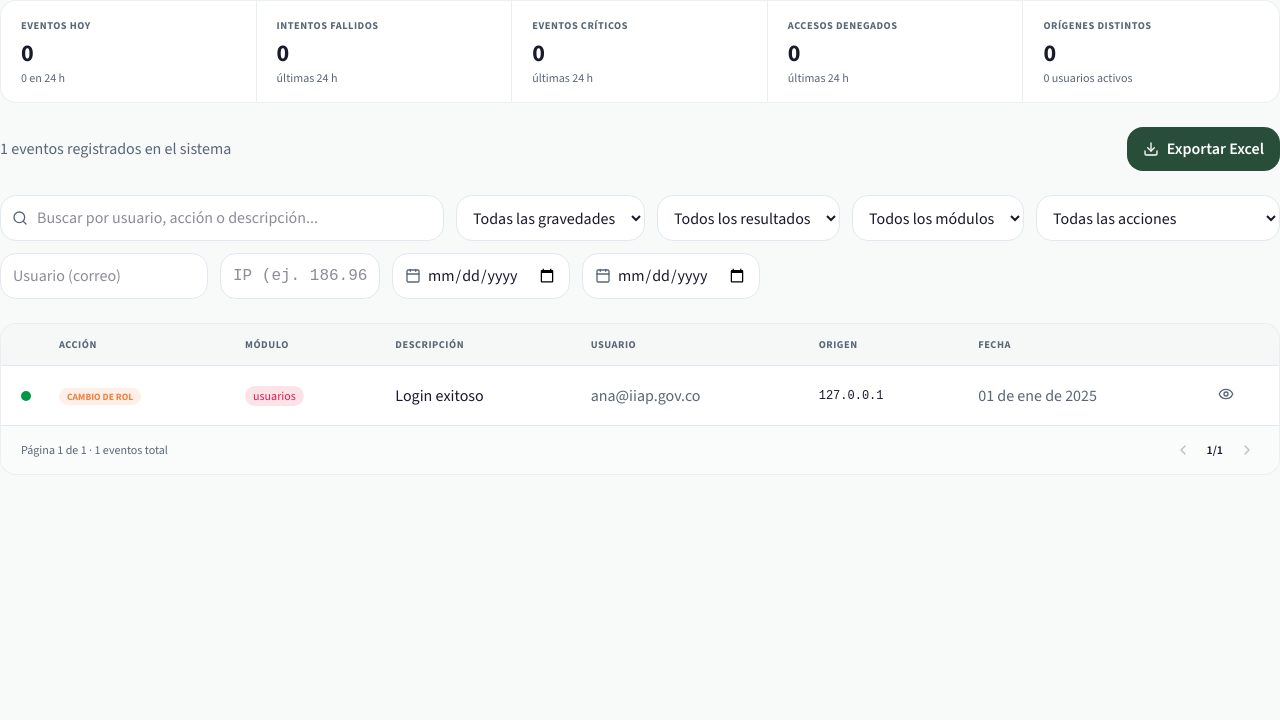
Test case: AuditoriaTab — fase 2 (resultado, cambios y accesos denegados) › el detalle muestra resultado, ID de petición y la tabla de cambios antes/después
Click the button named "Ver detalle de Cambio de rol": (1226, 394) [1212,380,1240,408]
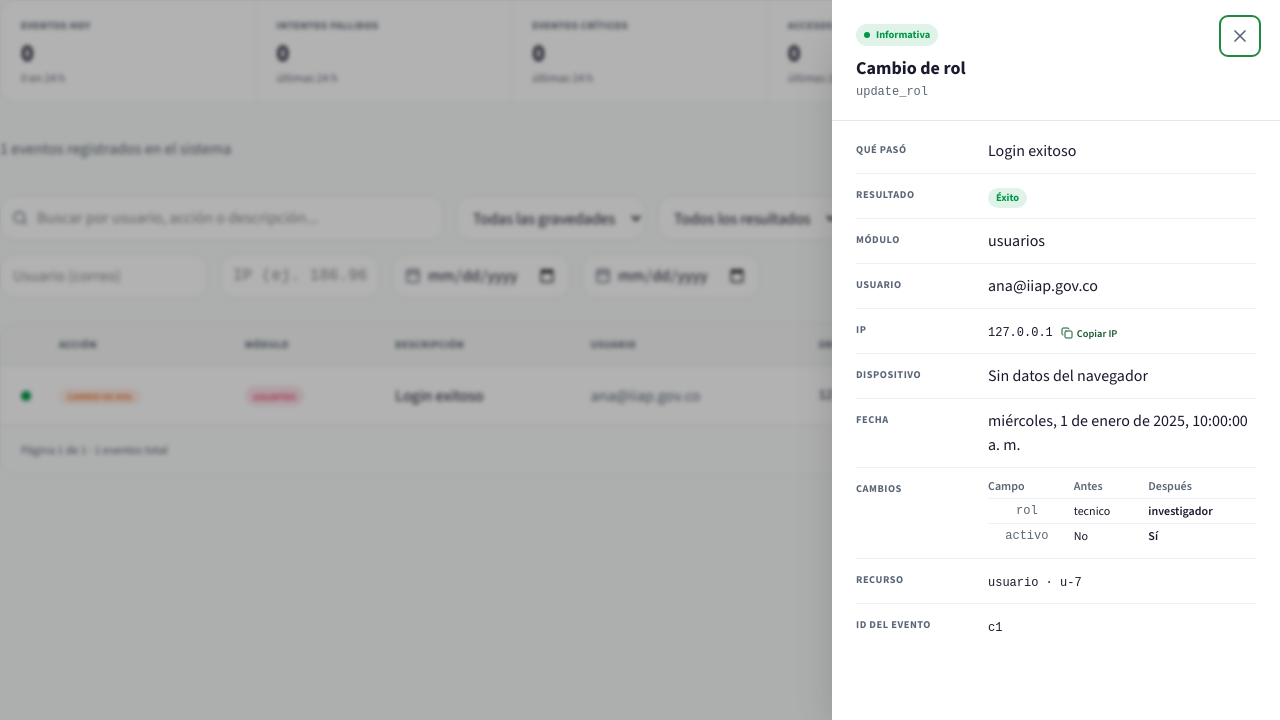
Expected: the text "Éxito" is shown, [988,188,1027,208]
Expected: the text "tecnico" is shown, [1074,499,1148,524]
Expected: the text "investigador" is shown, [1148,499,1256,524]
